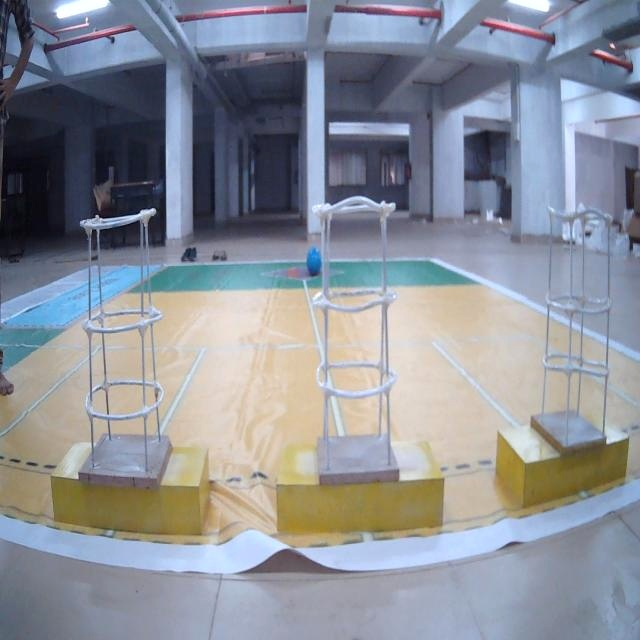silo: (314, 193, 403, 479), (80, 206, 168, 486), (536, 210, 614, 456)
